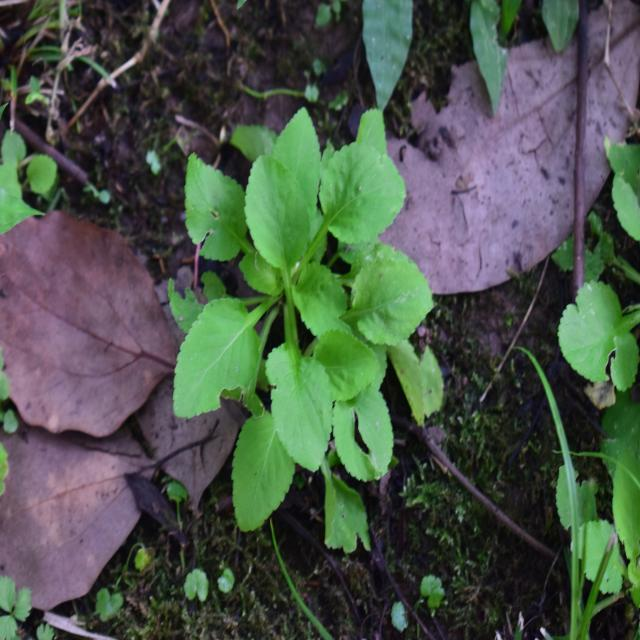Viola: (177, 108, 436, 504)
